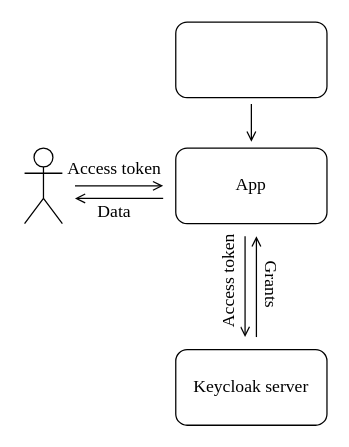
Some shapes in this 349 by 447 pixel diagram are drawn without their labels. The centre of each missing label's shape, as x and y in pixels:
"Client" goes at (x=42, y=185).
"Resource server" goes at (x=251, y=59).
